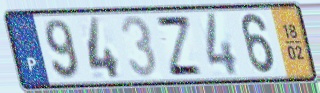3: (119, 13, 161, 81)
4: (85, 15, 125, 81), (203, 11, 241, 79)
6: (240, 12, 277, 75)
9: (44, 17, 82, 82)
Z: (153, 15, 206, 78)
